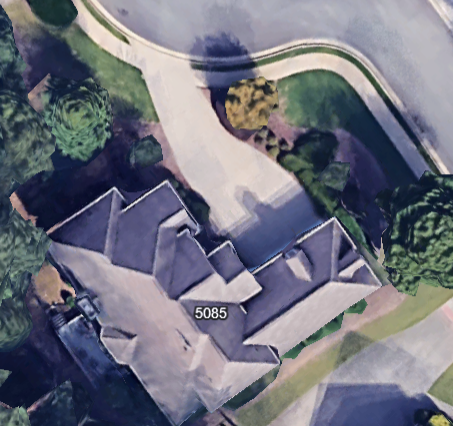driveway: (81, 22, 323, 273)
